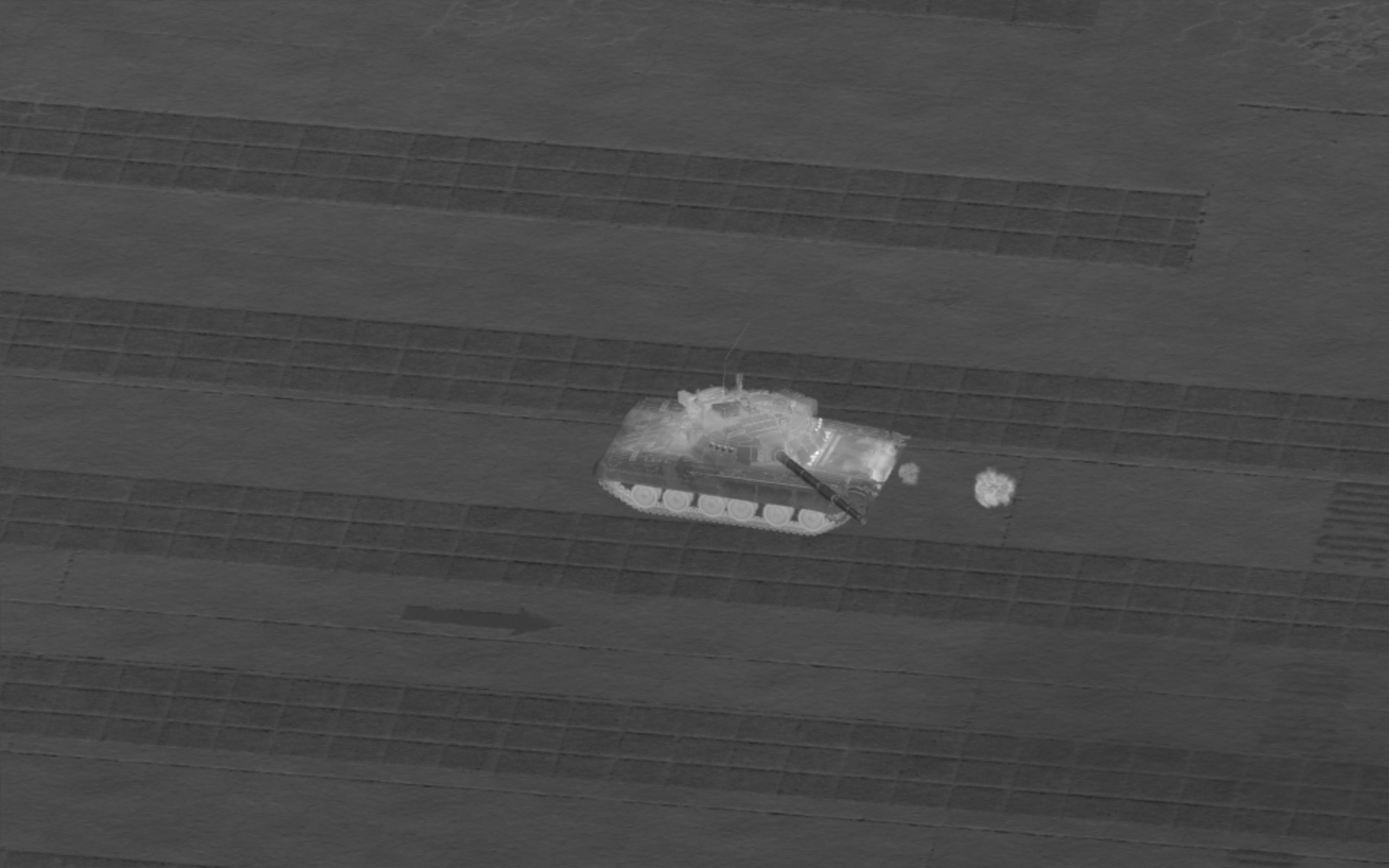t-80u: (594, 374, 908, 536)
